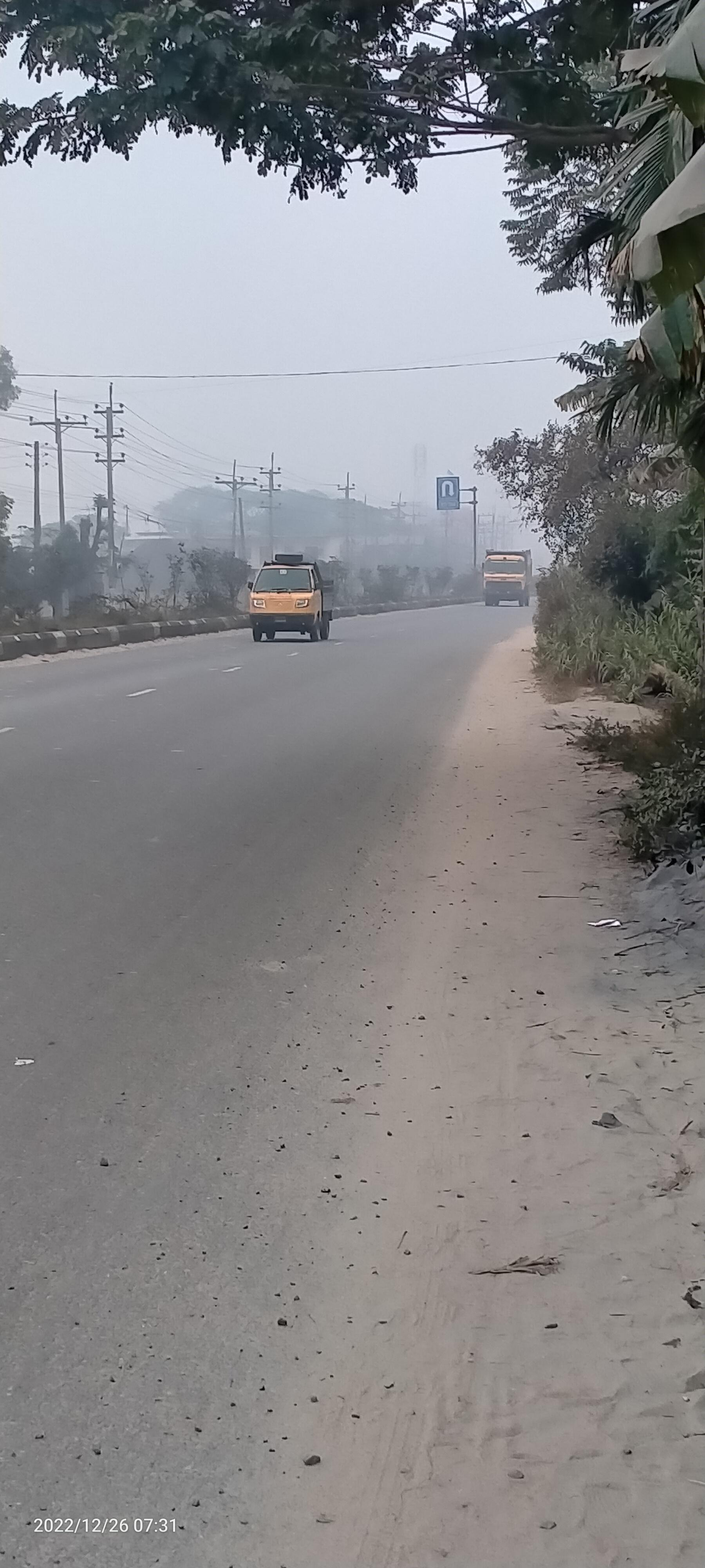Truck: (245, 552, 340, 649), (475, 547, 539, 612)
